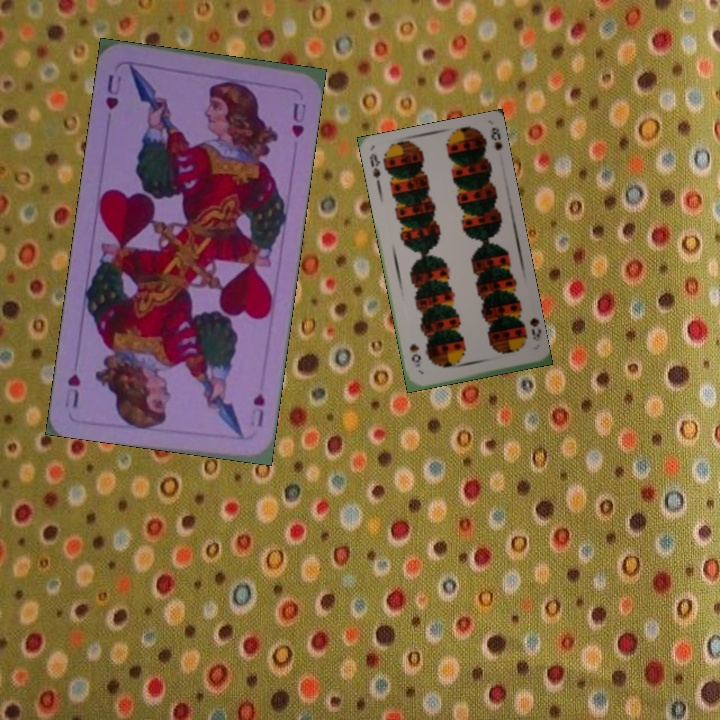HU: (101, 70, 124, 112), (246, 389, 268, 430)
S8: (366, 149, 383, 190), (526, 313, 542, 344)
